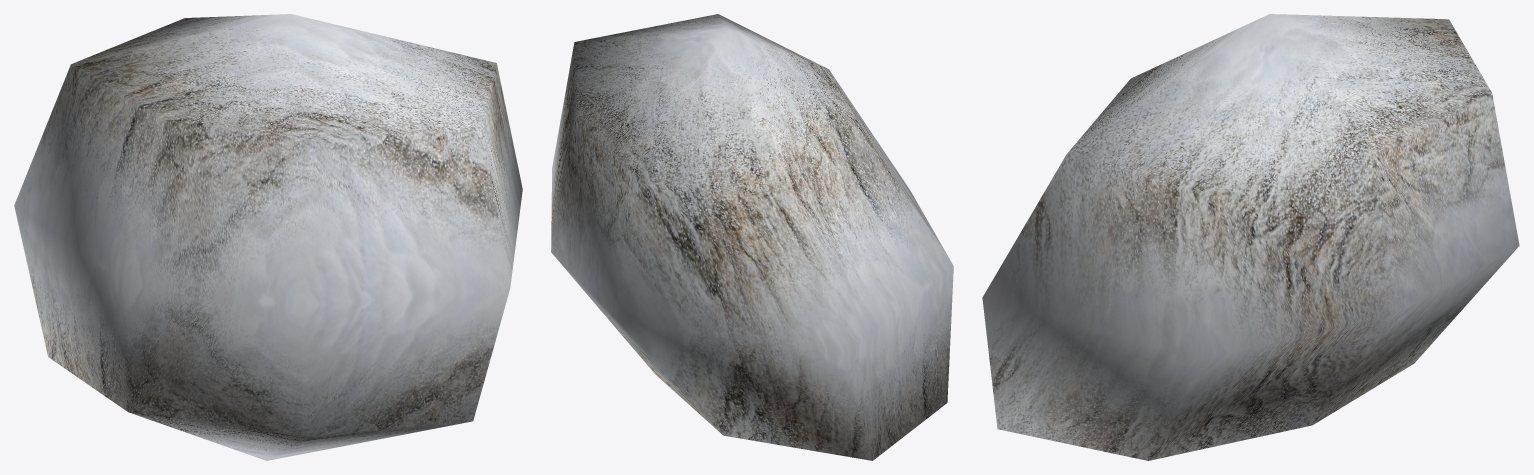
The model's file is Rock01.FBX.
3 views of the same model, side by side, from view 1: azimuth 30°, elevation 25°; view 2: azimuth 150°, elevation 25°; view 3: azimuth 270°, elevation 25° (orthographic). The views are drawn at different scales.
Visible parts, largest first — view 1: Rock01; view 2: Rock01; view 3: Rock01.
Part boxes in pixels (bbox=[...]): Rock01: bbox=[14, 14, 522, 460]; Rock01: bbox=[551, 14, 953, 460]; Rock01: bbox=[982, 14, 1519, 460].
Bounding box in the file's own units: 144 × 148 × 141.
Materials: 1 (1 with a texture image).
